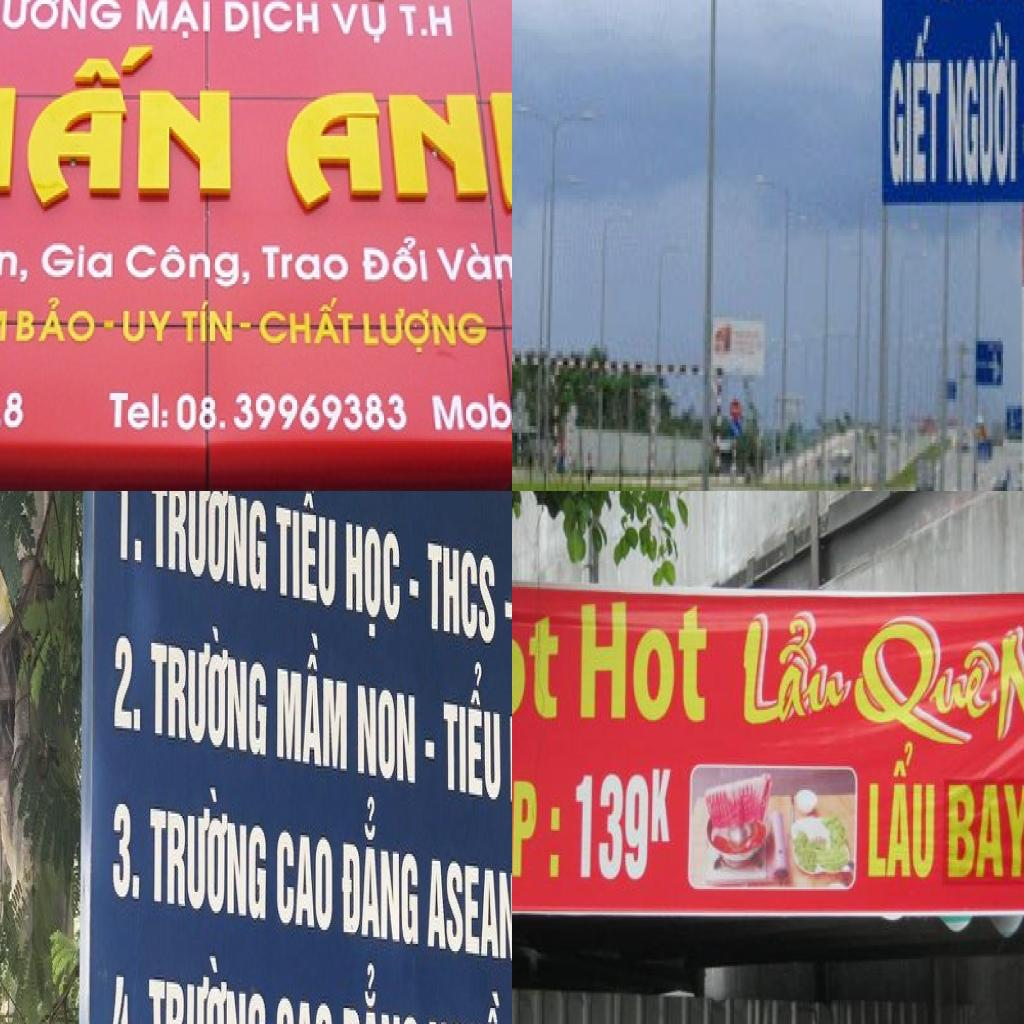text: (0, 42, 237, 220), (278, 83, 512, 215), (854, 606, 1000, 758), (576, 592, 714, 729), (148, 771, 269, 925), (149, 608, 269, 762), (740, 604, 853, 735), (572, 759, 674, 896), (853, 730, 940, 888), (340, 785, 420, 951), (944, 19, 1018, 189), (149, 491, 268, 595), (275, 619, 350, 776), (174, 391, 415, 436), (146, 941, 268, 1024), (886, 16, 943, 192), (425, 854, 512, 968), (441, 652, 502, 809), (945, 773, 1024, 884), (273, 491, 337, 614), (427, 539, 497, 650), (346, 518, 402, 646), (512, 742, 562, 885), (360, 307, 492, 361), (123, 241, 254, 293), (275, 825, 335, 937), (356, 681, 417, 790), (256, 293, 357, 354), (512, 605, 562, 723), (339, 956, 421, 1024), (14, 293, 97, 350), (258, 243, 353, 291), (0, 0, 126, 36), (222, 0, 322, 44), (996, 605, 1024, 752), (428, 388, 512, 436), (433, 243, 512, 293), (38, 238, 116, 286), (358, 236, 432, 286), (133, 0, 215, 45), (110, 797, 143, 904), (104, 388, 173, 438), (112, 631, 144, 738), (426, 981, 504, 1024), (329, 2, 391, 50), (180, 300, 238, 350), (121, 304, 176, 350), (398, 4, 459, 45), (114, 491, 144, 569), (108, 972, 145, 1024), (276, 991, 334, 1024), (0, 238, 32, 290), (0, 388, 29, 436), (239, 320, 254, 334), (103, 318, 116, 334)
